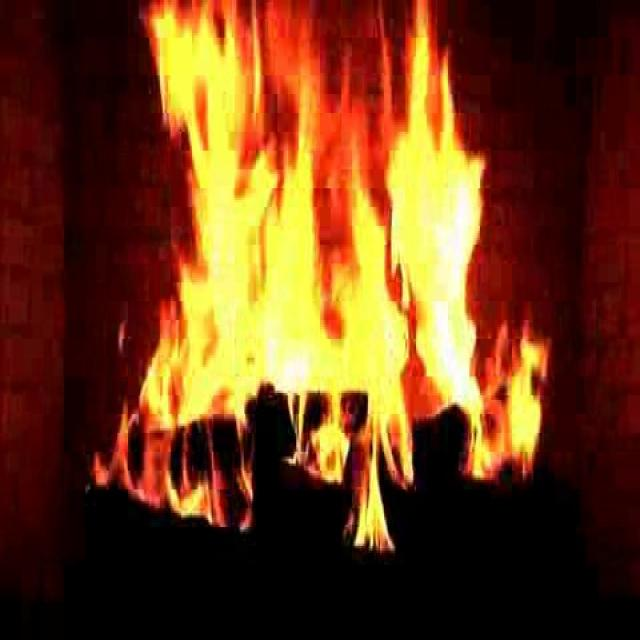fire: (135, 26, 519, 514)
